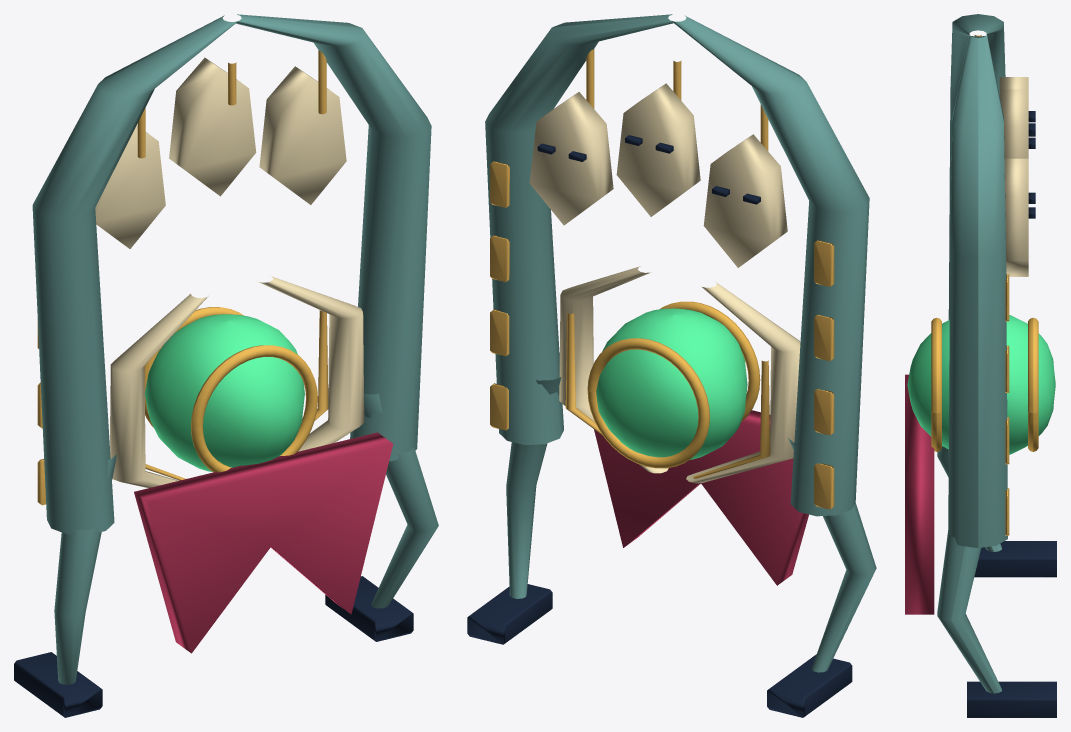
File: boss_3.glb
3 views of the same model, side by side, from view 1: azimuth 30°, elevation 25°; view 2: azimuth 150°, elevation 25°; view 3: azimuth 270°, elevation 25° (orthographic). The views are drawn at different scales.
Parts seen in each view (by area): view 1: ProcessionArch (×2), FuneralDrape, Mask (×3), GlassCore, OpenRib (×2), LongShin (×2), Hoof (×2), GiltOrbRim (×2), GiltRib; view 2: ProcessionArch (×2), Mask (×3), GlassCore, FuneralDrape, OpenRib (×2), LongShin (×2), ArchInlay (×8), Hoof (×2), GiltOrbRim (×2), GiltRib (×2); view 3: ProcessionArch (×2), GlassCore, FuneralDrape, Hoof (×2), Mask (×3), LongShin (×2), GiltOrbRim (×2).
Boxes of the visible parts, left/top/right/bottom form: ProcessionArch (×2): left=32, top=14, right=431, bottom=534; FuneralDrape: left=134, top=432, right=393, bottom=653; Mask (×3): left=95, top=57, right=346, bottom=248; GlassCore: left=145, top=314, right=304, bottom=471; OpenRib (×2): left=110, top=276, right=364, bottom=488; LongShin (×2): left=54, top=394, right=438, bottom=684; Hoof (×2): left=14, top=576, right=413, bottom=717; GiltOrbRim (×2): left=144, top=307, right=317, bottom=472; GiltRib: left=314, top=310, right=328, bottom=420; ProcessionArch (×2): left=485, top=14, right=869, bottom=516; Mask (×3): left=529, top=83, right=787, bottom=267; GlassCore: left=596, top=308, right=747, bottom=459; FuneralDrape: left=594, top=410, right=808, bottom=585; OpenRib (×2): left=559, top=266, right=800, bottom=483; LongShin (×2): left=506, top=377, right=876, bottom=672; ArchInlay (×8): left=490, top=161, right=834, bottom=509; Hoof (×2): left=467, top=584, right=852, bottom=717; GiltOrbRim (×2): left=587, top=301, right=760, bottom=468; GiltRib (×2): left=565, top=313, right=770, bottom=478; ProcessionArch (×2): left=948, top=14, right=1007, bottom=548; GlassCore: left=907, top=315, right=1055, bottom=454; FuneralDrape: left=905, top=374, right=934, bottom=614; Hoof (×2): left=967, top=541, right=1056, bottom=717; Mask (×3): left=999, top=77, right=1028, bottom=276; LongShin (×2): left=937, top=446, right=1001, bottom=693; GiltOrbRim (×2): left=931, top=317, right=1038, bottom=451.
Bounding box in the file's own units: 1.88 × 3 × 0.6818.
